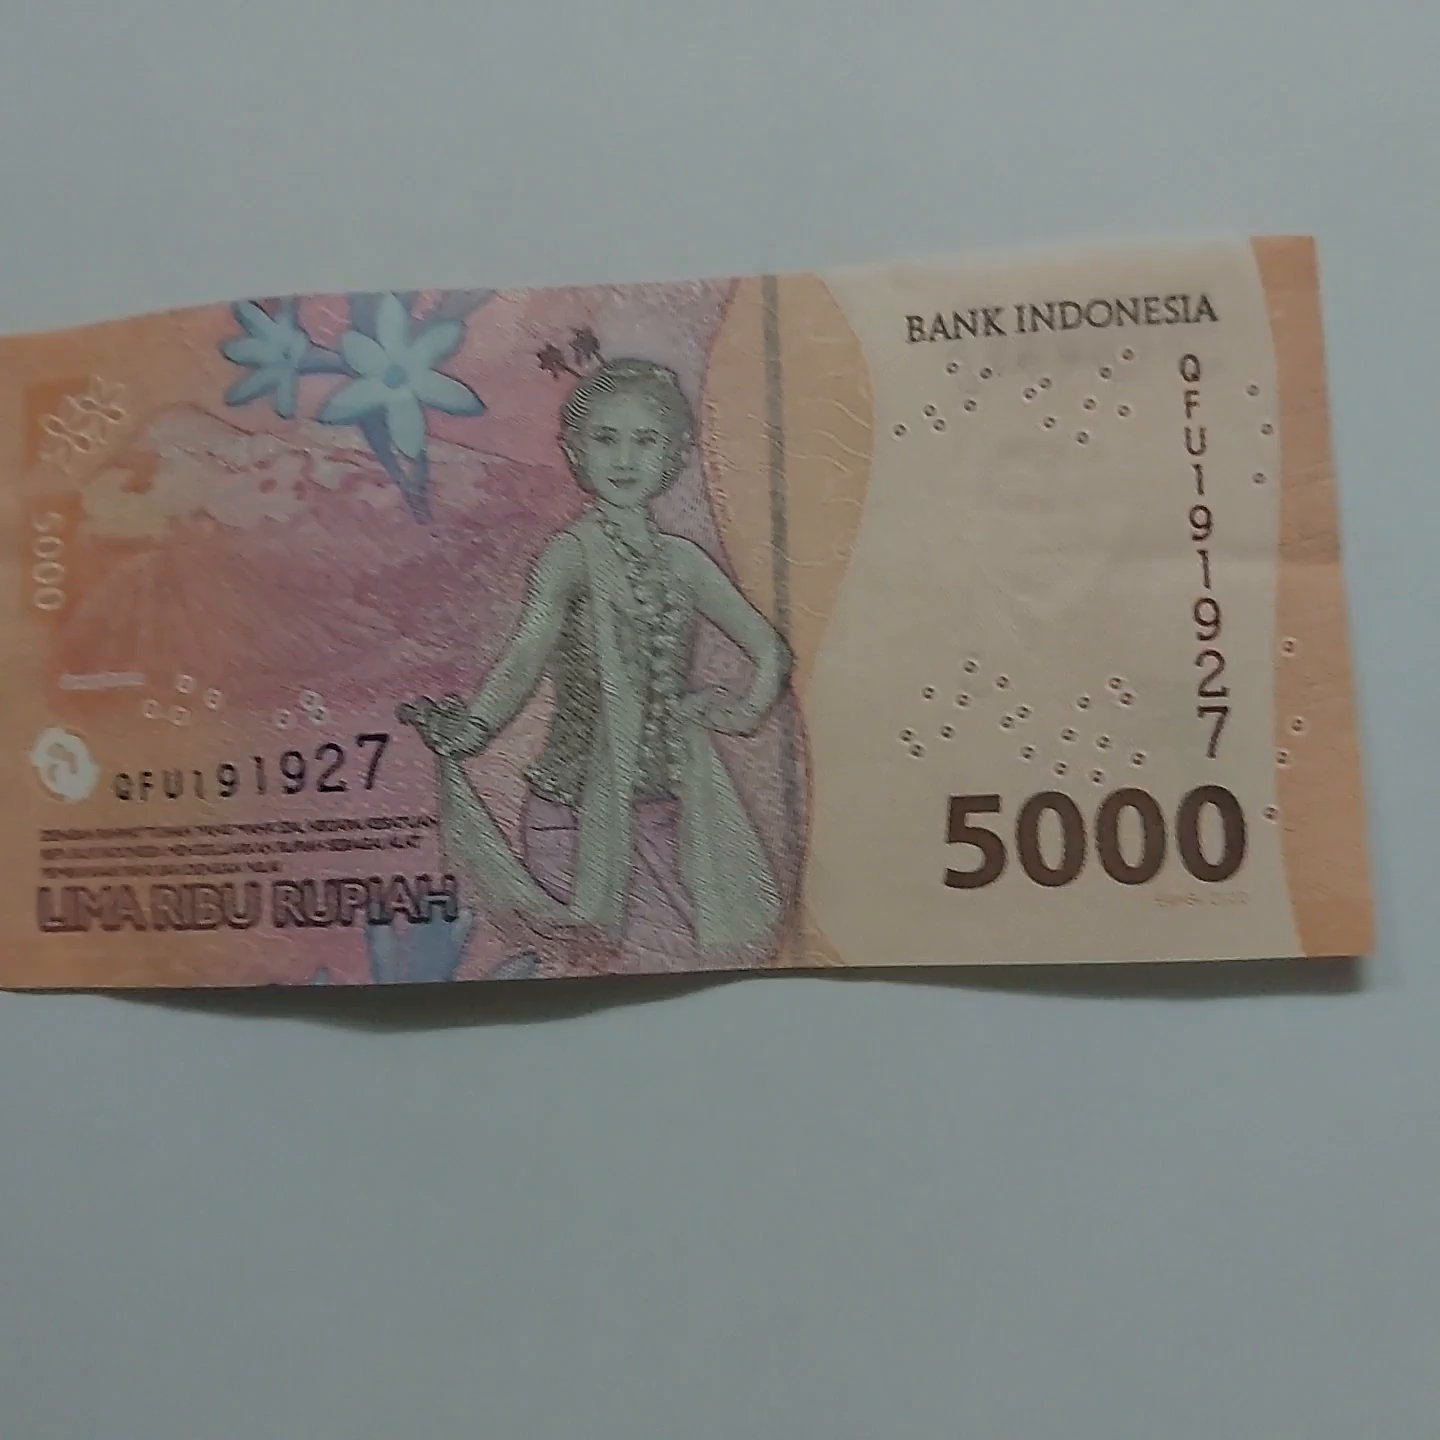5k: (0, 256, 1395, 982)
